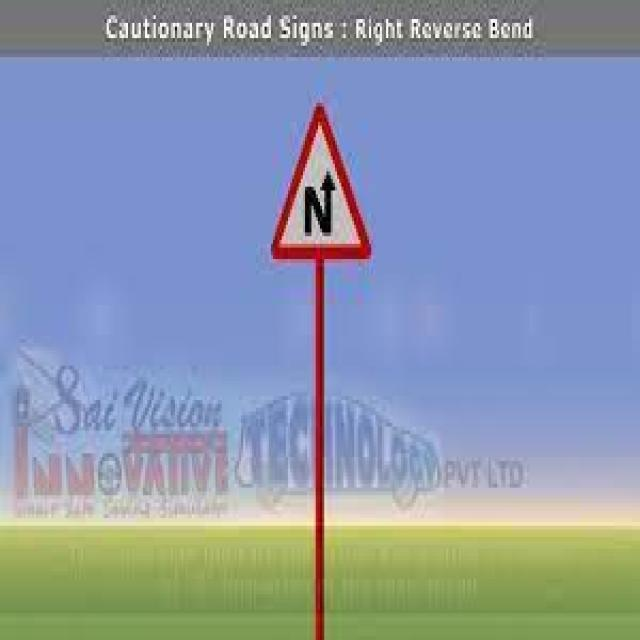right reverse bend: (269, 102, 368, 266)
